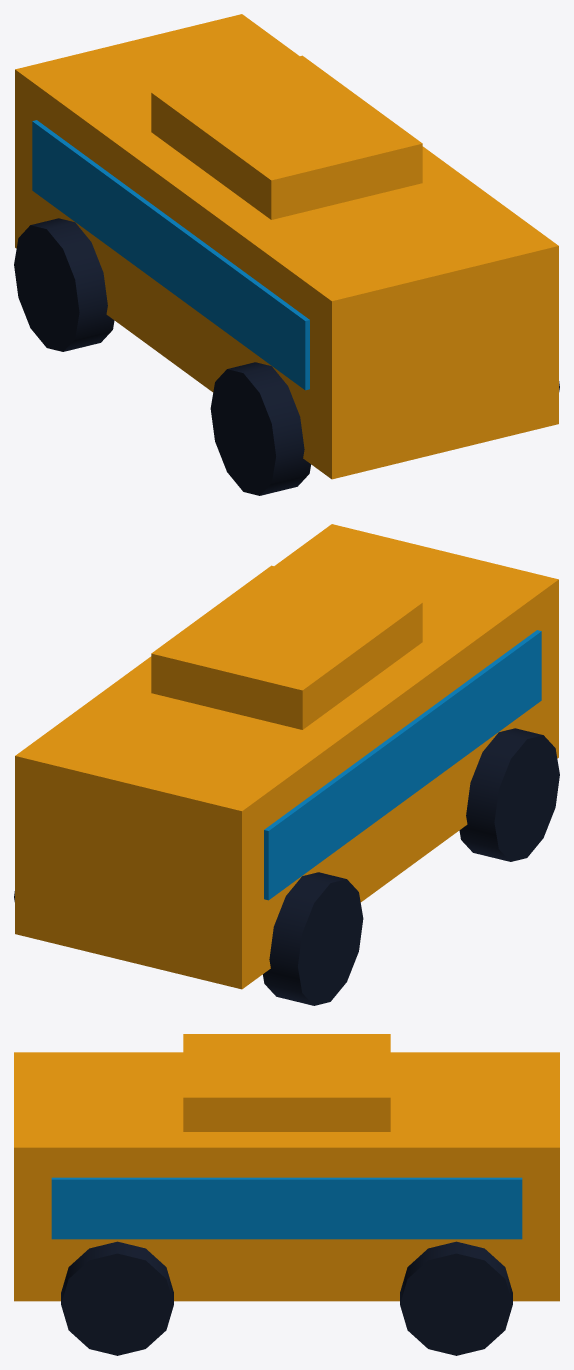
File: vehicle_bus.glb
3 renders of one model, top to bottom at view 1: azimuth 30°, elevation 25°; view 2: azimuth 150°, elevation 25°; view 3: azimuth 270°, elevation 25°, orthographic. The views are drawn at different scales.
Visible parts, largest first — view 1: Vehicle_Bus; view 2: Vehicle_Bus; view 3: Vehicle_Bus.
Boxes of the visible parts, x1=… form: Vehicle_Bus: x1=14, y1=14, x2=559, y2=495; Vehicle_Bus: x1=14, y1=524, x2=559, y2=1005; Vehicle_Bus: x1=14, y1=1034, x2=559, y2=1355.
Size of the model in its own units: 0.3 by 0.27 by 0.58.
